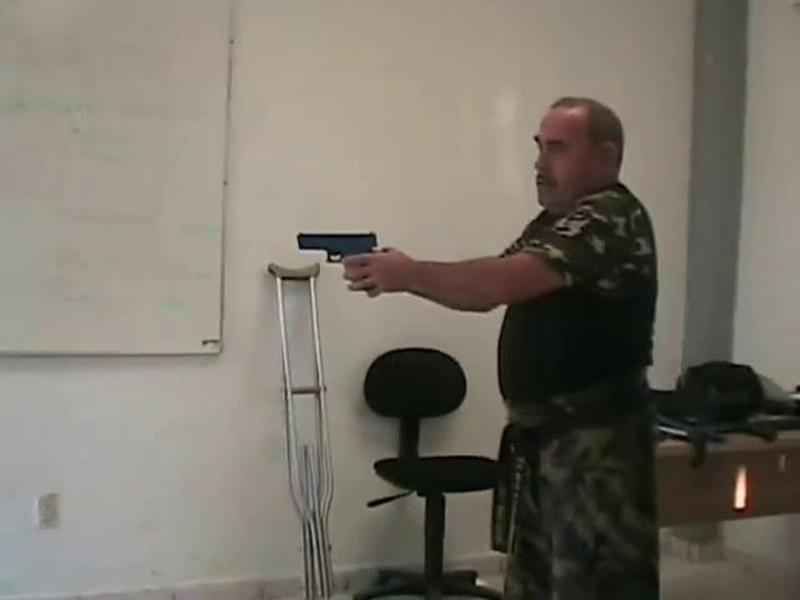Pistola: (295, 227, 383, 279)
